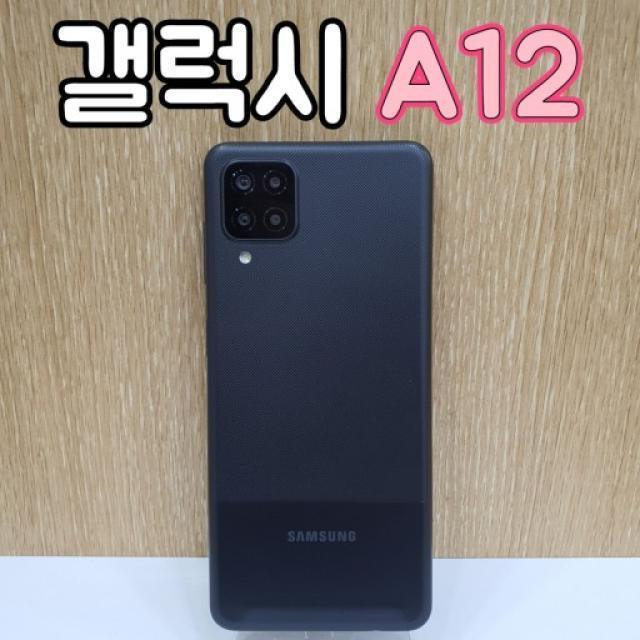phone: (197, 137, 439, 634)
